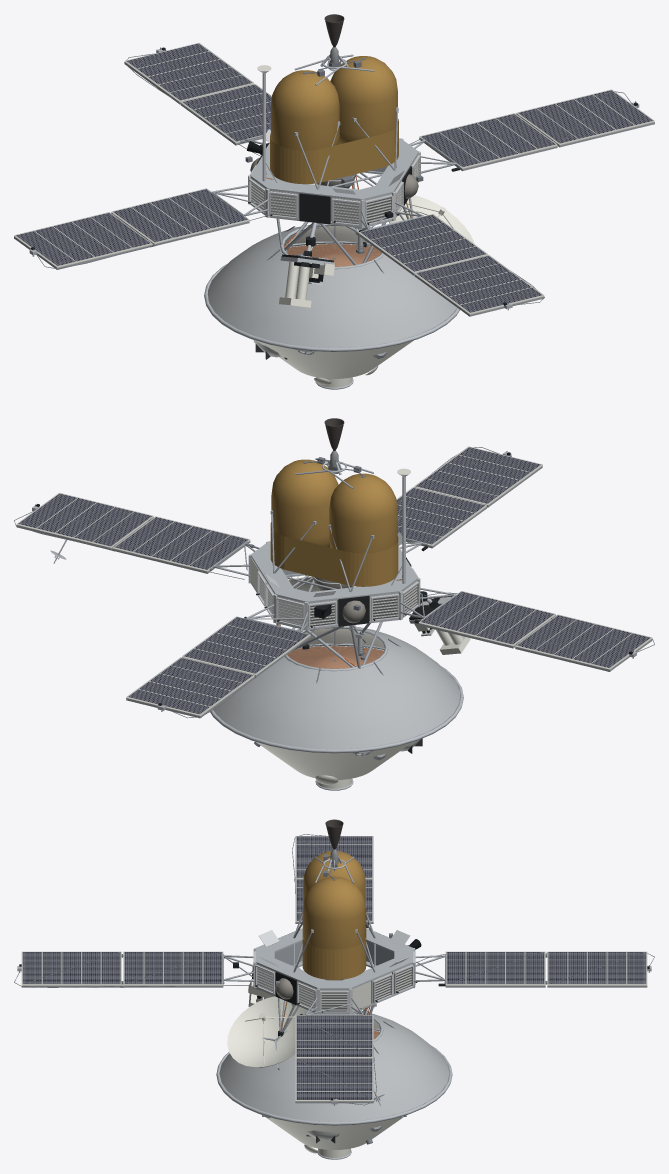
Rendered from viking2-exterior-mobile.glb.
The picture shows the model from 3 angles, top to bottom: view 1: azimuth 30°, elevation 25°; view 2: azimuth 150°, elevation 25°; view 3: azimuth 270°, elevation 25°; orthographic projection. The views are drawn at different scales.
Visible parts, largest first — view 1: VO2_ORBITER, VLC_BIOSHIELD_BASE, VLC_BASE_COVER, VLC_AEROSHELL; view 2: VO2_ORBITER, VLC_BIOSHIELD_BASE, VLC_BASE_COVER, VLC_AEROSHELL; view 3: VO2_ORBITER, VLC_BIOSHIELD_BASE, VLC_BASE_COVER.
Boxes of the visible parts, x1=… form: VO2_ORBITER: x1=14, y1=14, x2=654, y2=316; VLC_BIOSHIELD_BASE: x1=204, y1=223, x2=459, y2=351; VLC_BASE_COVER: x1=255, y1=243, x2=413, y2=389; VLC_AEROSHELL: x1=287, y1=236, x2=381, y2=354; VO2_ORBITER: x1=14, y1=418, x2=654, y2=718; VLC_BIOSHIELD_BASE: x1=210, y1=625, x2=463, y2=753; VLC_BASE_COVER: x1=254, y1=645, x2=413, y2=790; VLC_AEROSHELL: x1=287, y1=638, x2=383, y2=755; VO2_ORBITER: x1=14, y1=819, x2=654, y2=1105; VLC_BIOSHIELD_BASE: x1=216, y1=1012, x2=452, y2=1125; VLC_BASE_COVER: x1=262, y1=1030, x2=406, y2=1159.
Size of the model in its own units: 10.08 by 5.73 by 10.08.
38 materials, 4 textured.
